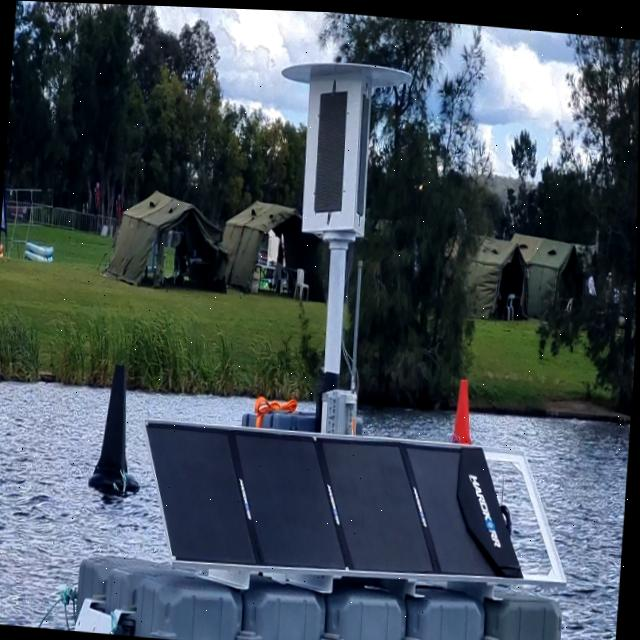led: (305, 77, 359, 221)
